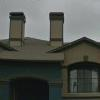Chimney: (6, 6, 27, 55)
